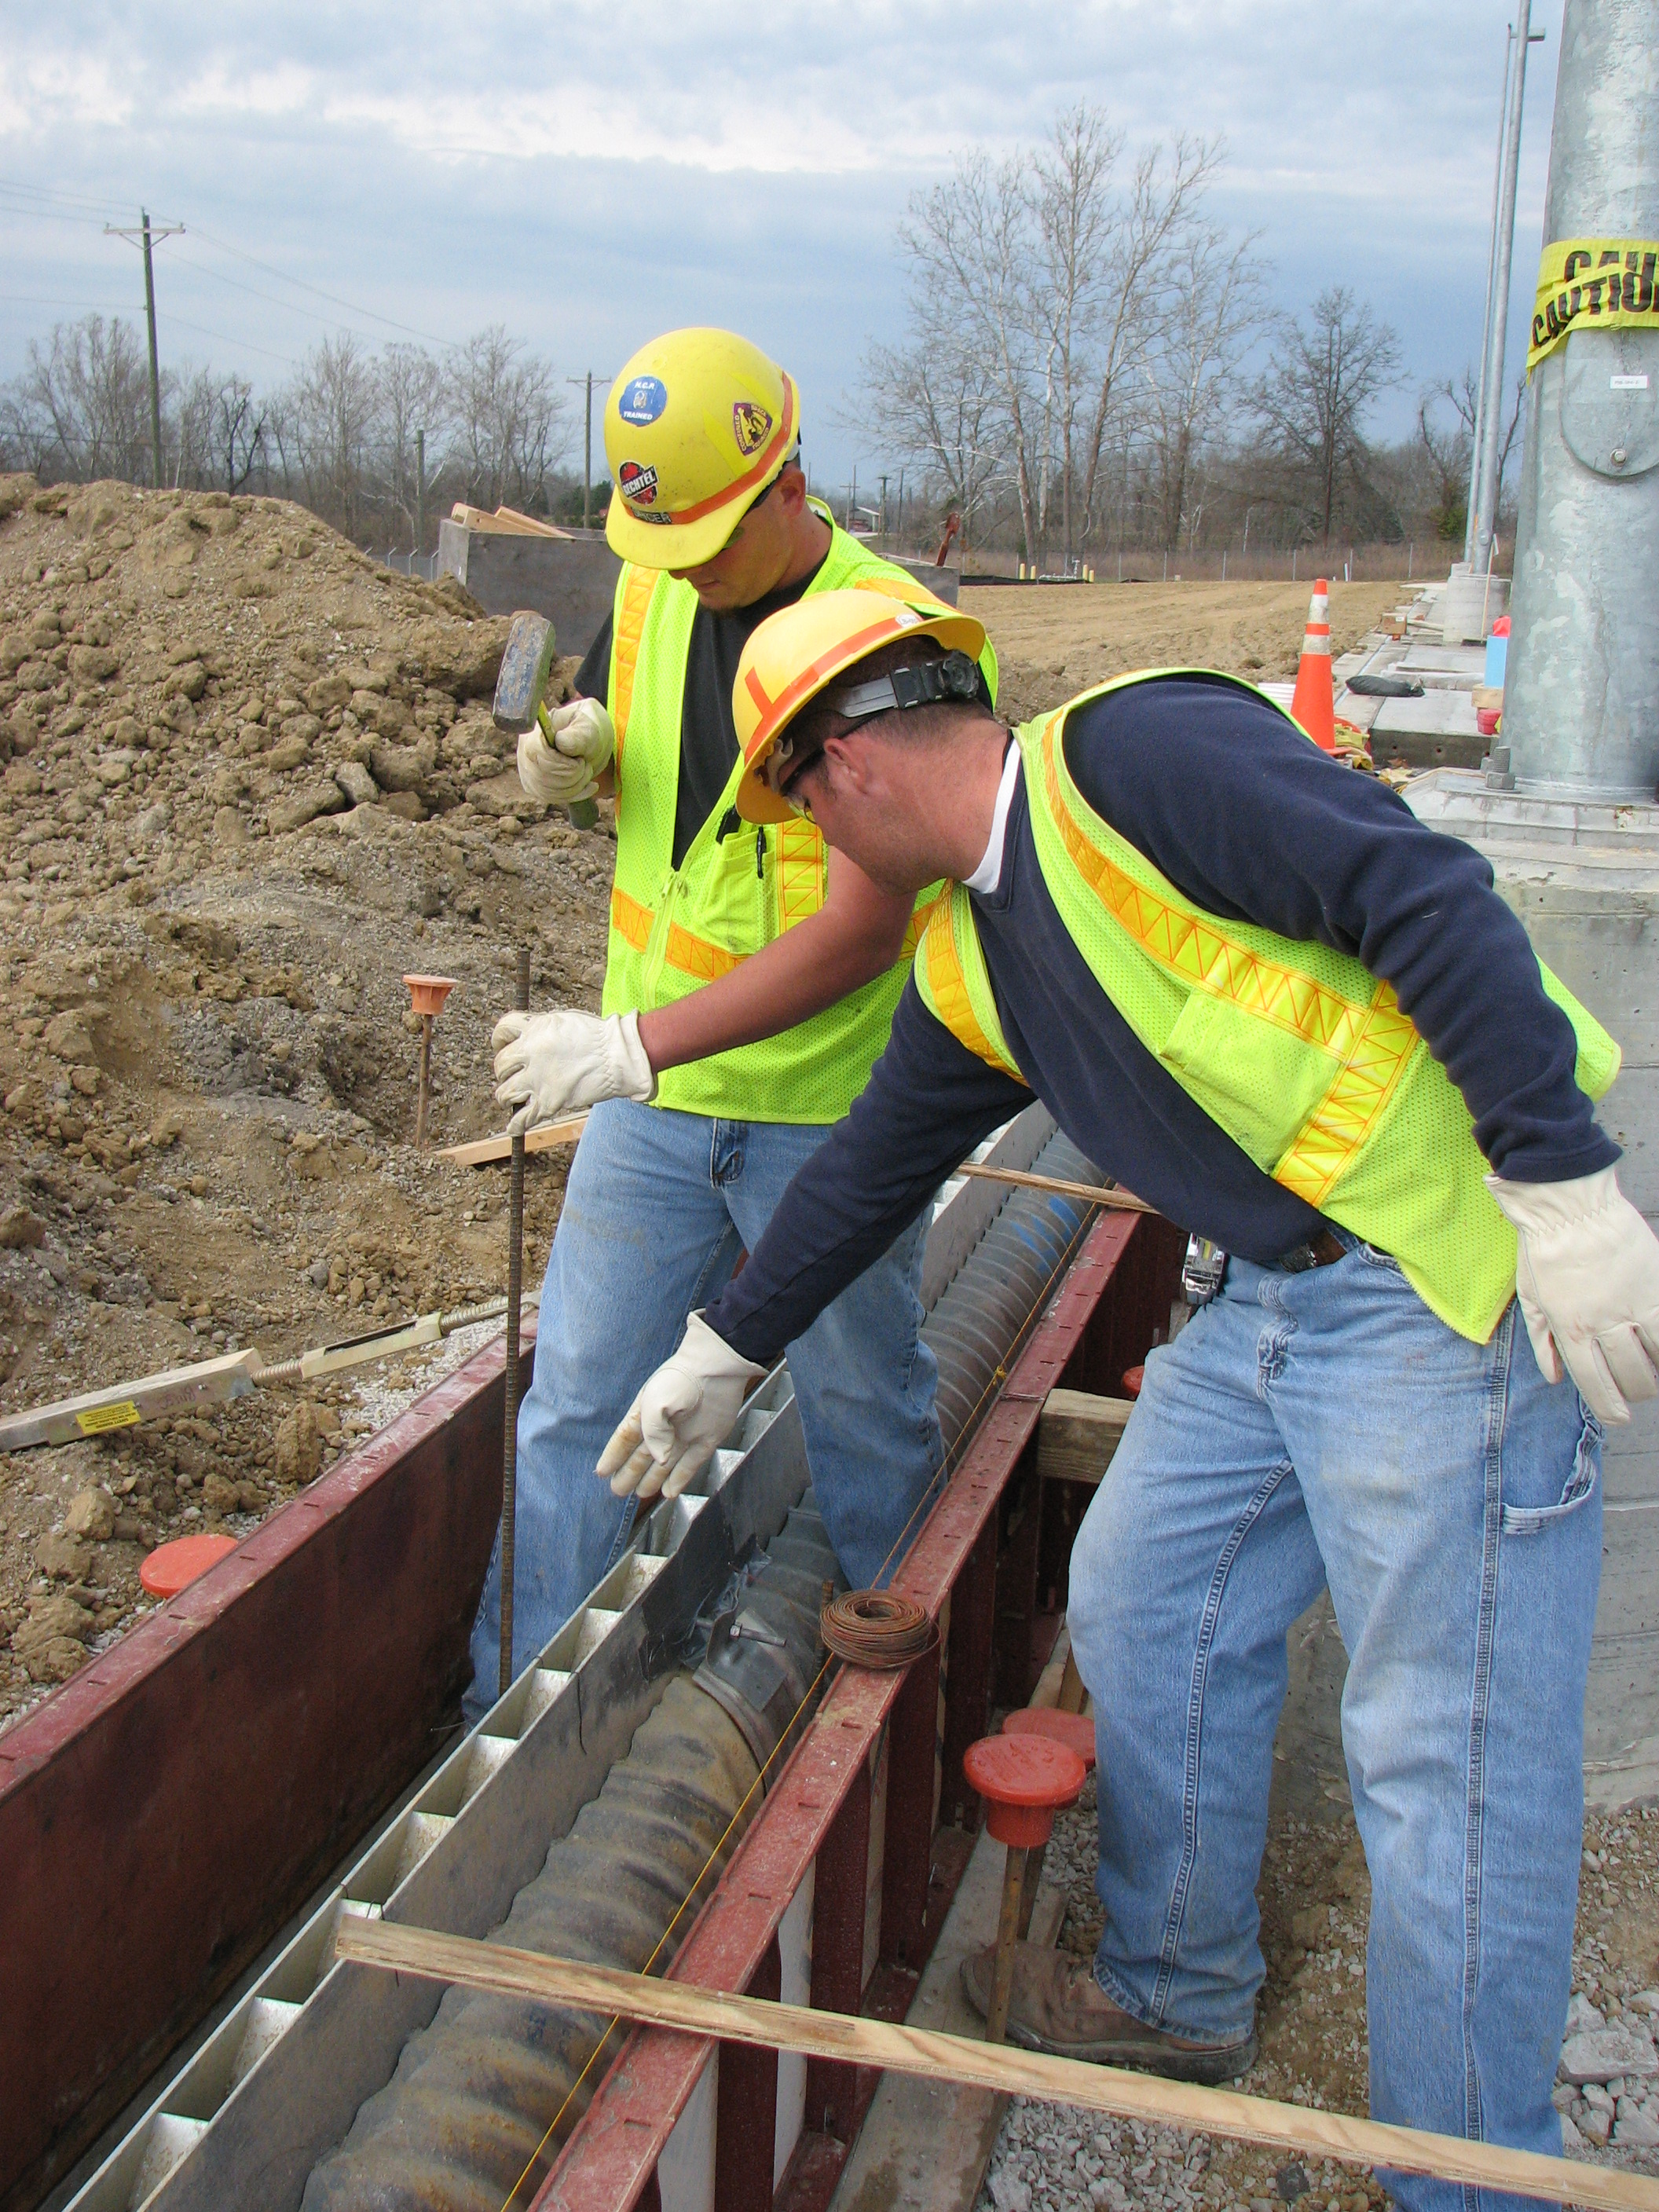helmet: (579, 334, 798, 564), (725, 570, 934, 726)
